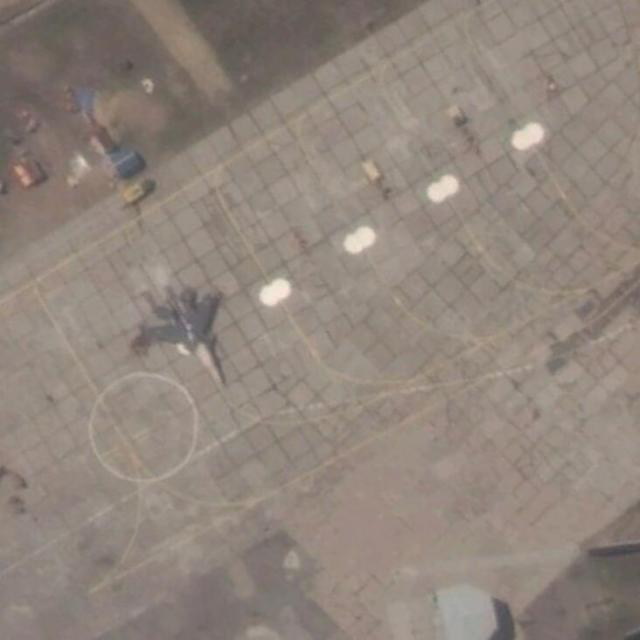fighter jet: (130, 282, 233, 379)
